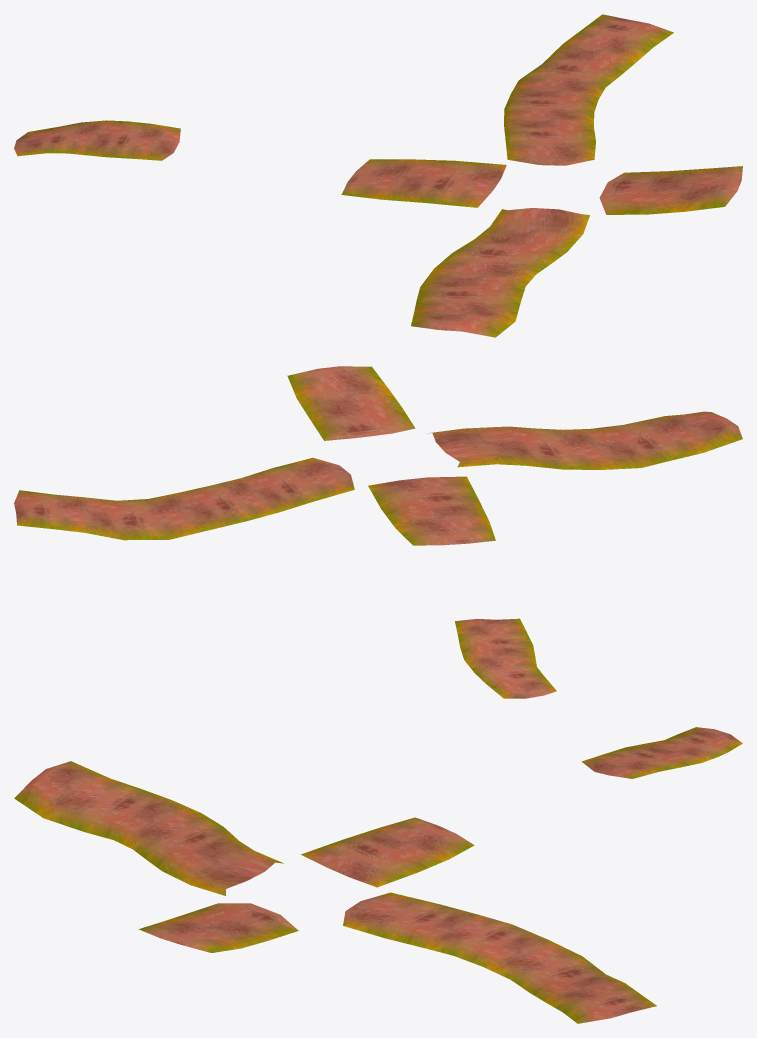
Rendered from s0_AG_Path_Art_01.glb.
The picture shows the model from 3 angles, top to bottom: view 1: azimuth 30°, elevation 25°; view 2: azimuth 150°, elevation 25°; view 3: azimuth 270°, elevation 25°; orthographic projection. The views are drawn at different scales.
Parts seen in each view (by area): view 1: node_AG_Path_Art; view 2: node_AG_Path_Art; view 3: node_AG_Path_Art.
Boxes of the visible parts, <box> form: node_AG_Path_Art: <box>14,14,742,337</box>; node_AG_Path_Art: <box>14,366,742,698</box>; node_AG_Path_Art: <box>14,727,742,1023</box>.
Size of what is drawn, in the model's own units: 52.49 by 2.98 by 51.29.
1 material, 1 textured.
